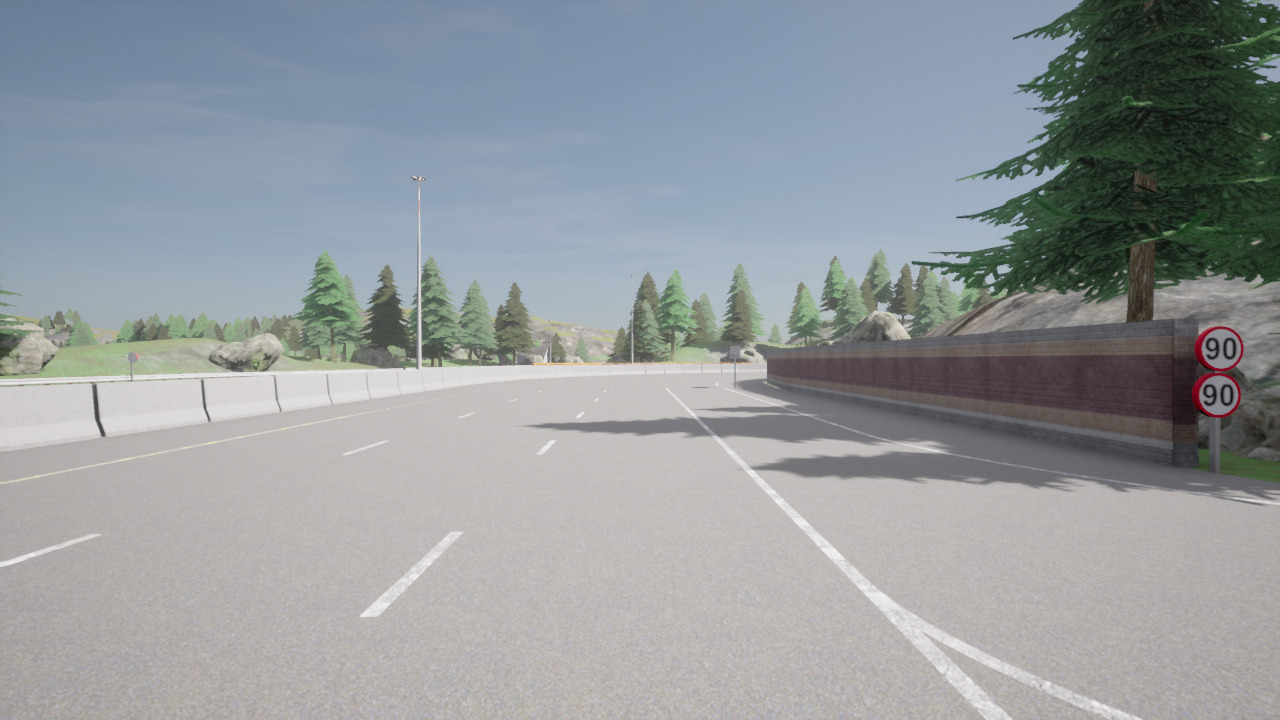sl90: (1190, 371, 1243, 419), (1194, 325, 1245, 372)
